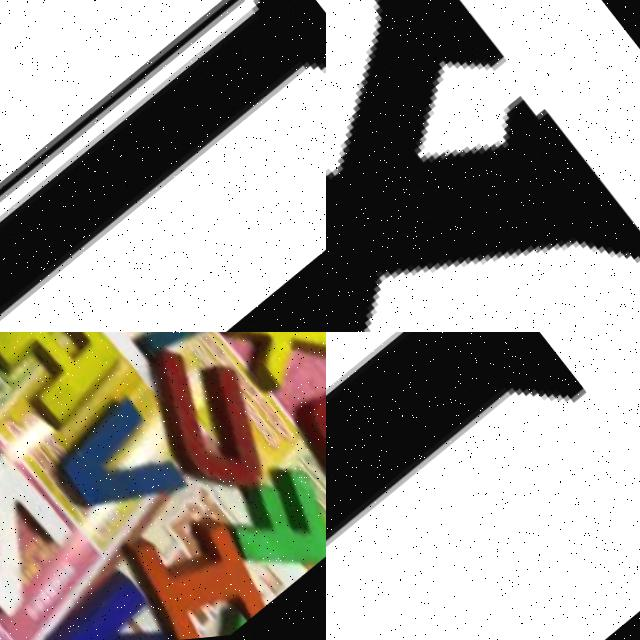F: (212, 452, 326, 608)
I: (326, 332, 586, 552), (113, 491, 277, 640)
L: (0, 0, 326, 332)
M: (83, 332, 233, 384)
N: (35, 567, 194, 640)
O: (280, 364, 326, 531)
R: (0, 332, 128, 439)
U: (125, 332, 288, 514)
V: (39, 390, 192, 559)
X: (326, 0, 640, 332), (213, 332, 326, 417)
Z: (0, 424, 90, 636)
